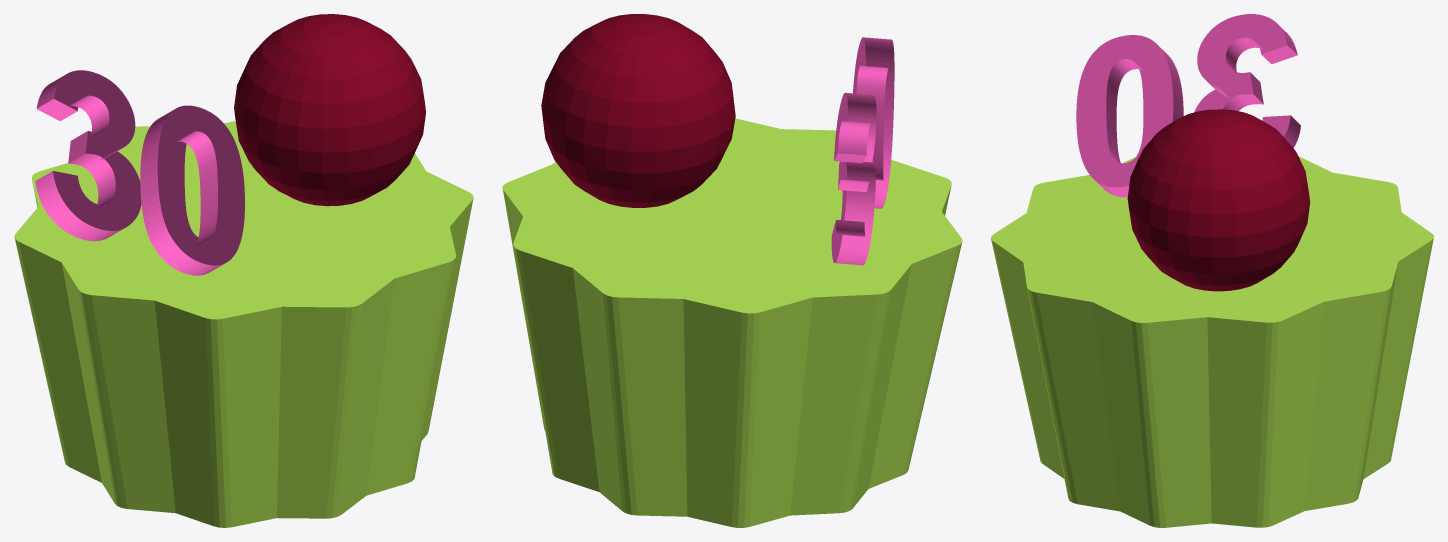
Rendered from cake4.glb.
The picture shows the model from 3 angles, left to right: view 1: azimuth 30°, elevation 25°; view 2: azimuth 150°, elevation 25°; view 3: azimuth 270°, elevation 25°; orthographic projection. The views are drawn at different scales.
Bounding box in the file's own units: 0.3026 × 0.3021 × 0.3144.
